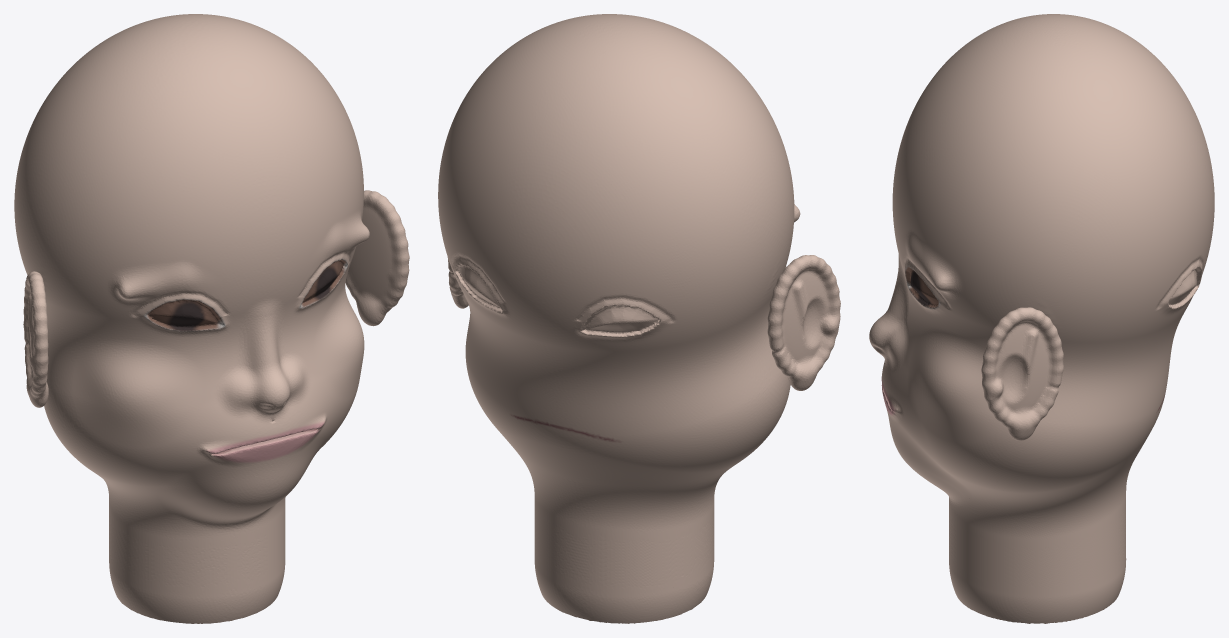
File: karma_face_stage1_G_neutral_EXPERIMENT.glb
The picture shows the model from 3 angles, left to right: view 1: azimuth 30°, elevation 25°; view 2: azimuth 150°, elevation 25°; view 3: azimuth 270°, elevation 25°; orthographic projection.
Visible parts, largest first — view 1: head; view 2: head; view 3: head.
Part boxes in pixels (left/top/right/bottom): head: left=14, top=14, right=409, bottom=623; head: left=438, top=14, right=840, bottom=623; head: left=869, top=14, right=1214, bottom=623.
Bounding box in the file's own units: 2.7 × 3.83 × 2.15.
